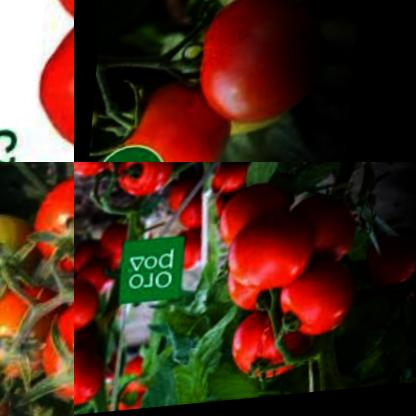tomato: (198, 0, 330, 130), (120, 71, 233, 162), (273, 262, 369, 358), (222, 212, 314, 306), (278, 191, 365, 282), (222, 314, 306, 397), (0, 295, 69, 389), (32, 14, 74, 162), (163, 186, 214, 278), (35, 173, 74, 288), (215, 189, 288, 250), (363, 228, 416, 309), (0, 212, 47, 302), (227, 267, 292, 325), (45, 294, 74, 416), (113, 162, 179, 206), (172, 191, 224, 243), (74, 274, 114, 337), (74, 342, 110, 411), (0, 322, 27, 411), (207, 164, 263, 206), (95, 228, 139, 274), (82, 256, 113, 294), (74, 162, 124, 180)
